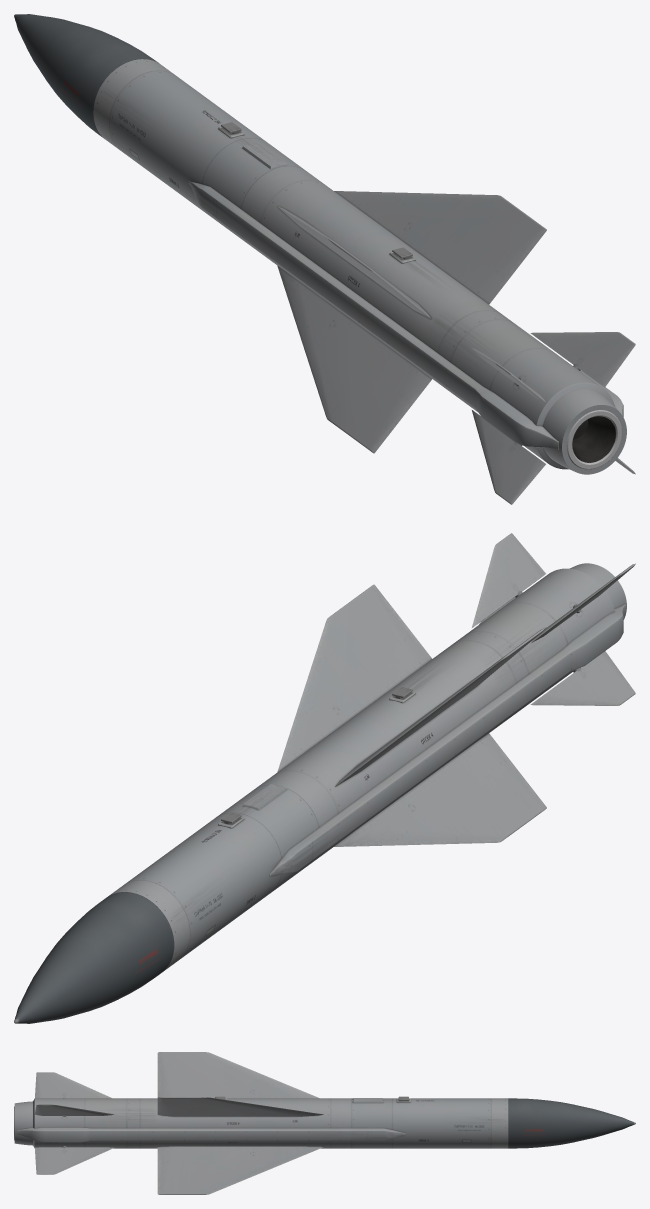
The picture shows the model from 3 angles, top to bottom: view 1: azimuth 30°, elevation 25°; view 2: azimuth 150°, elevation 25°; view 3: azimuth 270°, elevation 25°; orthographic projection. The views are drawn at different scales.
Visible parts, largest first — view 1: body, wings, radome, fin_1, fin_3; view 2: body, wings, radome, fin_1, fin_3, fin_4; view 3: body, wings, radome, fin_2, fin_4, fin_1.
Part boxes in pixels (x1=…): body: x1=93, y1=59, x2=626, y2=474; wings: x1=277, y1=191, x2=546, y2=453; radome: x1=14, y1=14, x2=158, y2=137; fin_1: x1=530, y1=332, x2=635, y2=387; fin_3: x1=472, y1=410, x2=545, y2=504; body: x1=108, y1=563, x2=626, y2=971; wings: x1=277, y1=584, x2=546, y2=846; radome: x1=14, y1=892, x2=174, y2=1023; fin_1: x1=472, y1=533, x2=545, y2=627; fin_3: x1=530, y1=651, x2=635, y2=705; fin_4: x1=531, y1=563, x2=635, y2=642; body: x1=14, y1=1096, x2=508, y2=1148; wings: x1=157, y1=1052, x2=323, y2=1194; radome: x1=508, y1=1098, x2=635, y2=1148; fin_2: x1=34, y1=1146, x2=114, y2=1174; fin_4: x1=35, y1=1072, x2=111, y2=1098; fin_1: x1=34, y1=1104, x2=114, y2=1116.
Size of the model in its own units: 0.8306 by 0.8306 by 4.79.
2 materials, 2 textured.
